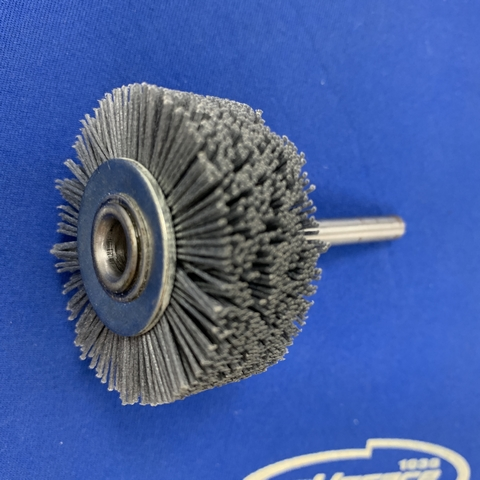Wheel Brush: (20, 70, 432, 413), (44, 83, 431, 406), (56, 104, 431, 377), (67, 89, 378, 391)
